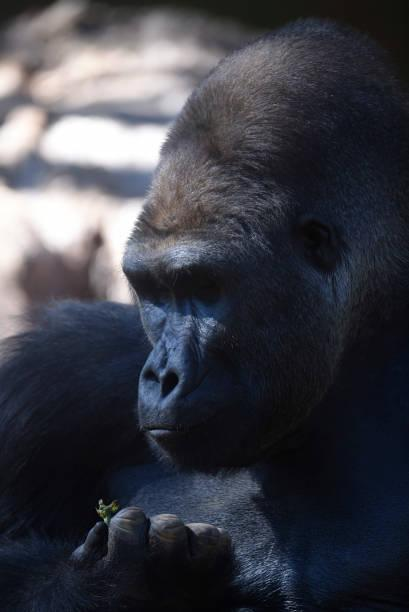gorille_Autres: (25, 34, 409, 612)
